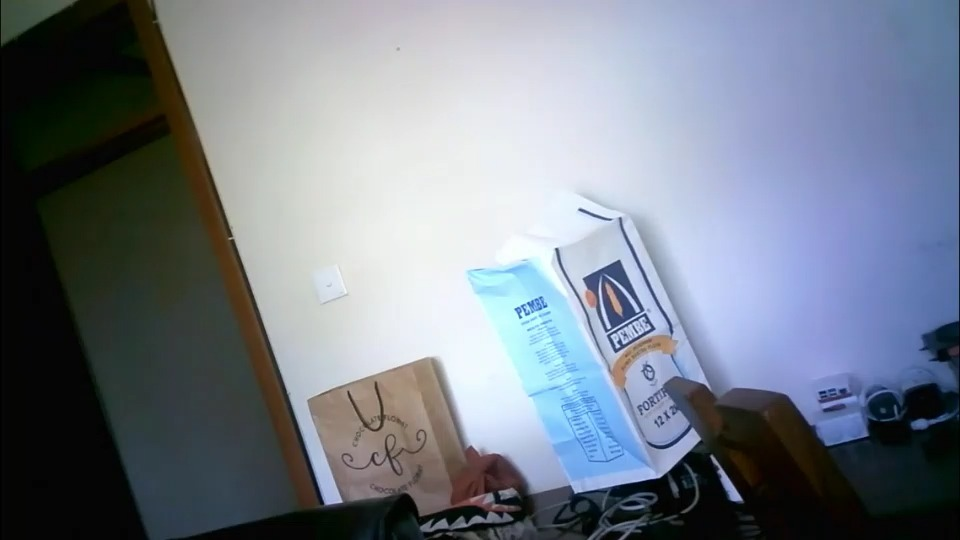wheat_flour_blue_label: (463, 191, 714, 489)
